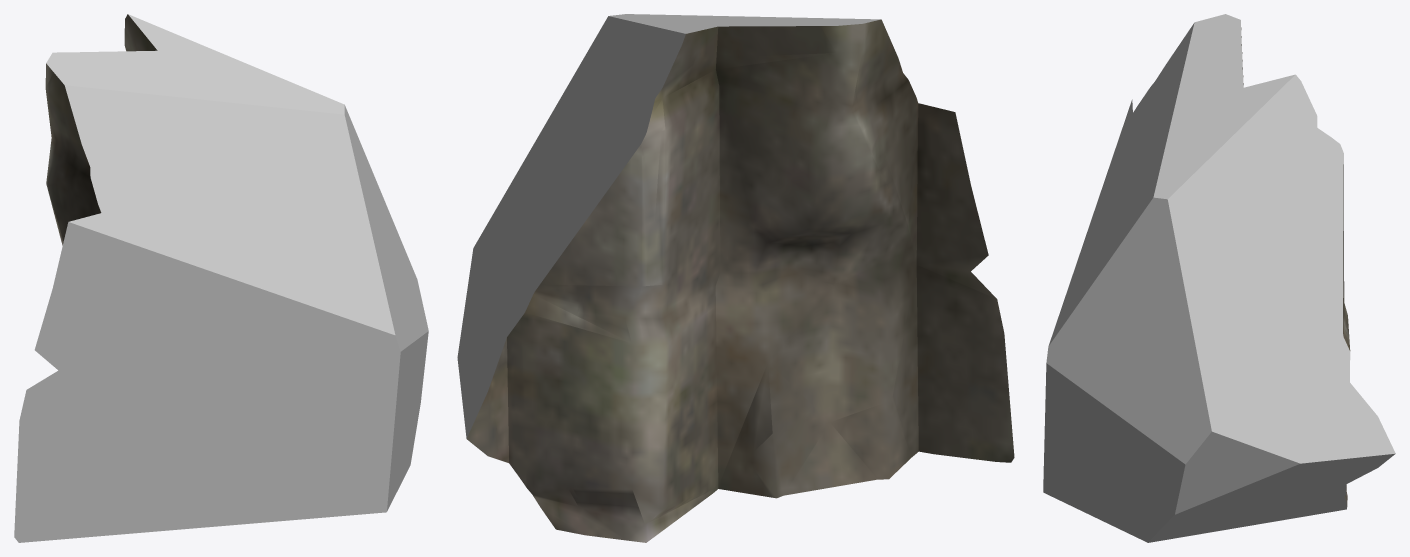
The model's file is ColumnDamage08_15.fbx.
3 renders of one model, left to right at view 1: azimuth 30°, elevation 25°; view 2: azimuth 150°, elevation 25°; view 3: azimuth 270°, elevation 25°, orthographic. The views are drawn at different scales.
Parts seen in each view (by area): view 1: ColumnDamage08_DM.015; view 2: ColumnDamage08_DM.015; view 3: ColumnDamage08_DM.015.
Part boxes in pixels (x1=…): ColumnDamage08_DM.015: x1=14, y1=14, x2=428, y2=542; ColumnDamage08_DM.015: x1=457, y1=14, x2=1014, y2=542; ColumnDamage08_DM.015: x1=1043, y1=14, x2=1395, y2=542.
Bounding box in the file's own units: 133 × 131 × 103.
